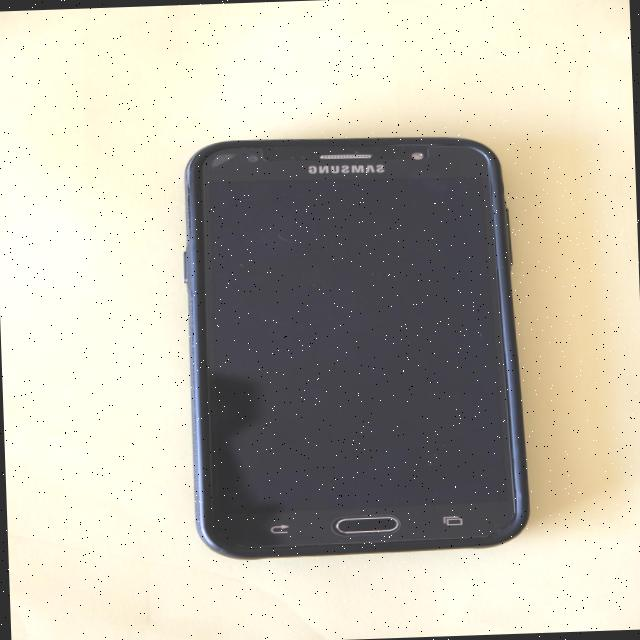Phone: (178, 127, 531, 562)
